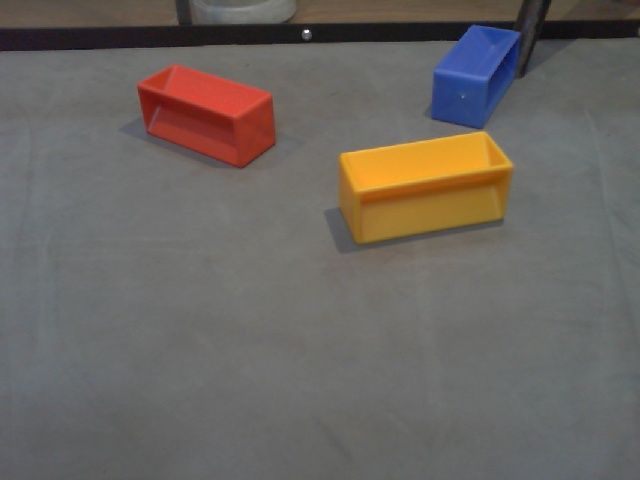BlueSample: (426, 21, 523, 133)
RedSample: (132, 60, 283, 175)
YellowSample: (338, 129, 514, 247)
